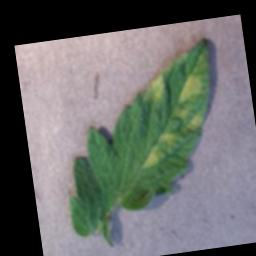Leaf_Mold: (172, 71, 208, 135), (135, 132, 181, 170), (144, 72, 172, 106)
